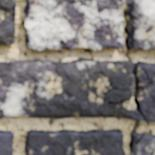brick: (25, 0, 123, 50), (25, 129, 124, 154), (126, 0, 154, 49), (0, 0, 15, 43), (131, 134, 154, 154), (0, 130, 13, 154)
broken_brick: (0, 57, 141, 120), (140, 85, 154, 123), (135, 60, 154, 84)
crack: (102, 2, 154, 152)
